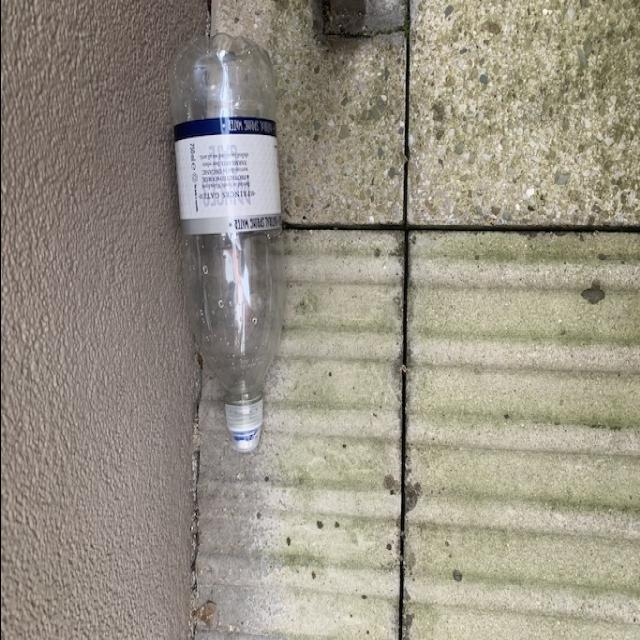litter: (158, 29, 298, 452)
